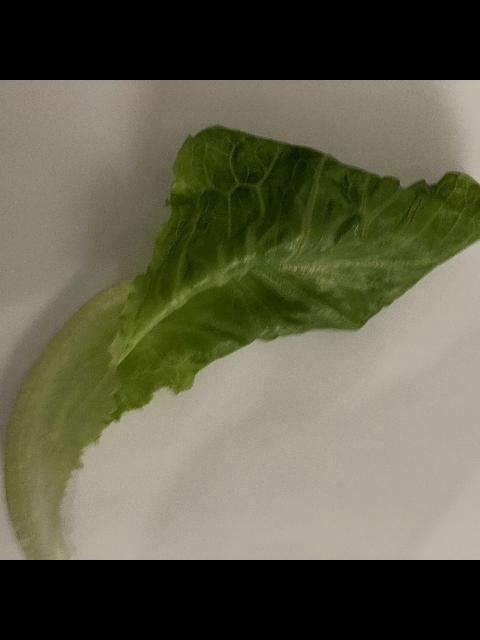lettuce: (1, 124, 480, 559)
